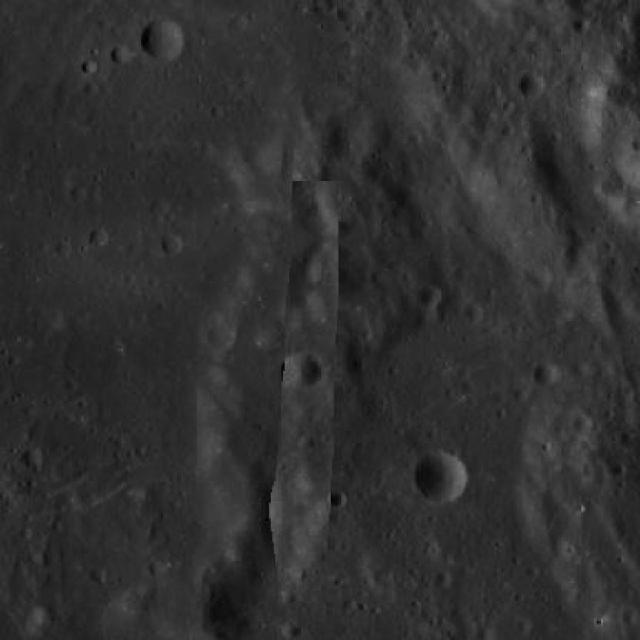crater: (93, 140, 270, 318), (410, 452, 464, 506), (136, 20, 182, 65), (283, 356, 323, 396), (530, 362, 558, 390), (208, 322, 235, 350), (523, 264, 549, 290), (338, 4, 364, 30), (516, 71, 542, 97), (413, 284, 436, 308), (162, 231, 184, 251), (21, 452, 41, 472), (459, 304, 479, 324), (570, 416, 590, 436), (567, 362, 587, 382), (106, 42, 126, 62), (522, 37, 542, 57), (89, 226, 108, 245), (232, 18, 251, 37), (85, 562, 104, 581), (150, 194, 170, 212), (288, 564, 307, 582), (144, 558, 162, 576), (302, 436, 320, 453), (282, 620, 300, 637), (76, 56, 93, 73), (618, 608, 636, 624), (570, 18, 587, 34), (431, 573, 447, 589), (55, 240, 71, 254), (474, 627, 491, 640)
